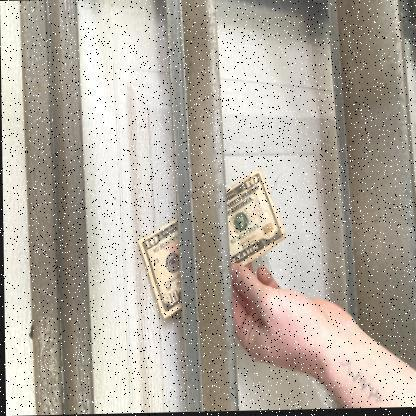ten-front: (137, 169, 286, 320)
